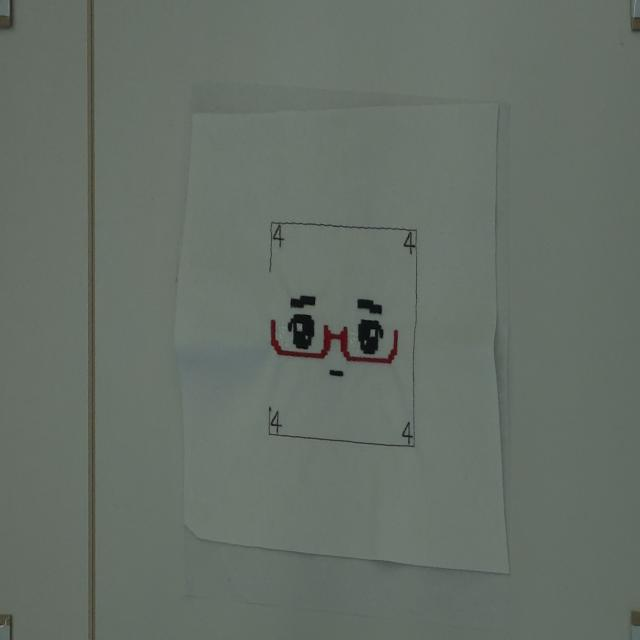4 -: (402, 231, 417, 258), (269, 409, 284, 434), (398, 420, 413, 445), (273, 224, 285, 250)
